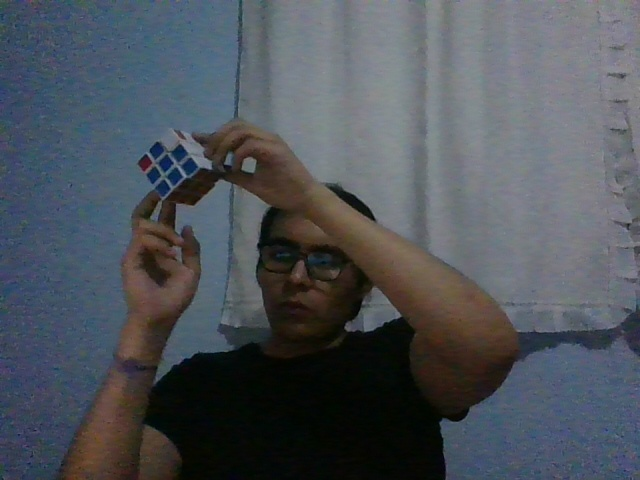rubik: (137, 128, 226, 206)
